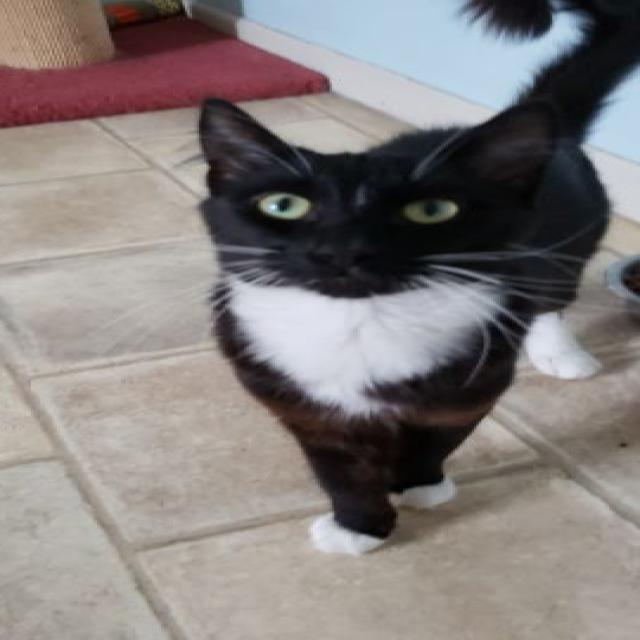Tuxedo: (180, 0, 640, 558)
